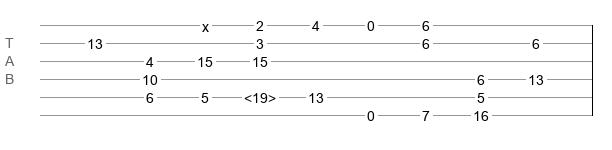0: (367, 108, 375, 118), (367, 18, 375, 28)
10: (142, 72, 158, 82)
13: (87, 36, 103, 46), (308, 90, 324, 100), (528, 72, 544, 82)
15: (197, 54, 213, 64), (252, 54, 268, 64)
16: (473, 108, 489, 118)
2: (256, 18, 264, 28)
3: (256, 36, 264, 46)
4: (146, 54, 154, 64), (312, 18, 320, 28)
5: (201, 90, 209, 100), (477, 90, 485, 100)
6: (146, 90, 154, 100), (422, 36, 430, 46), (422, 18, 430, 28), (477, 72, 485, 82), (532, 36, 540, 46)
7: (422, 108, 430, 118)
harmonic: (244, 90, 276, 100)
x: (202, 19, 209, 27)
